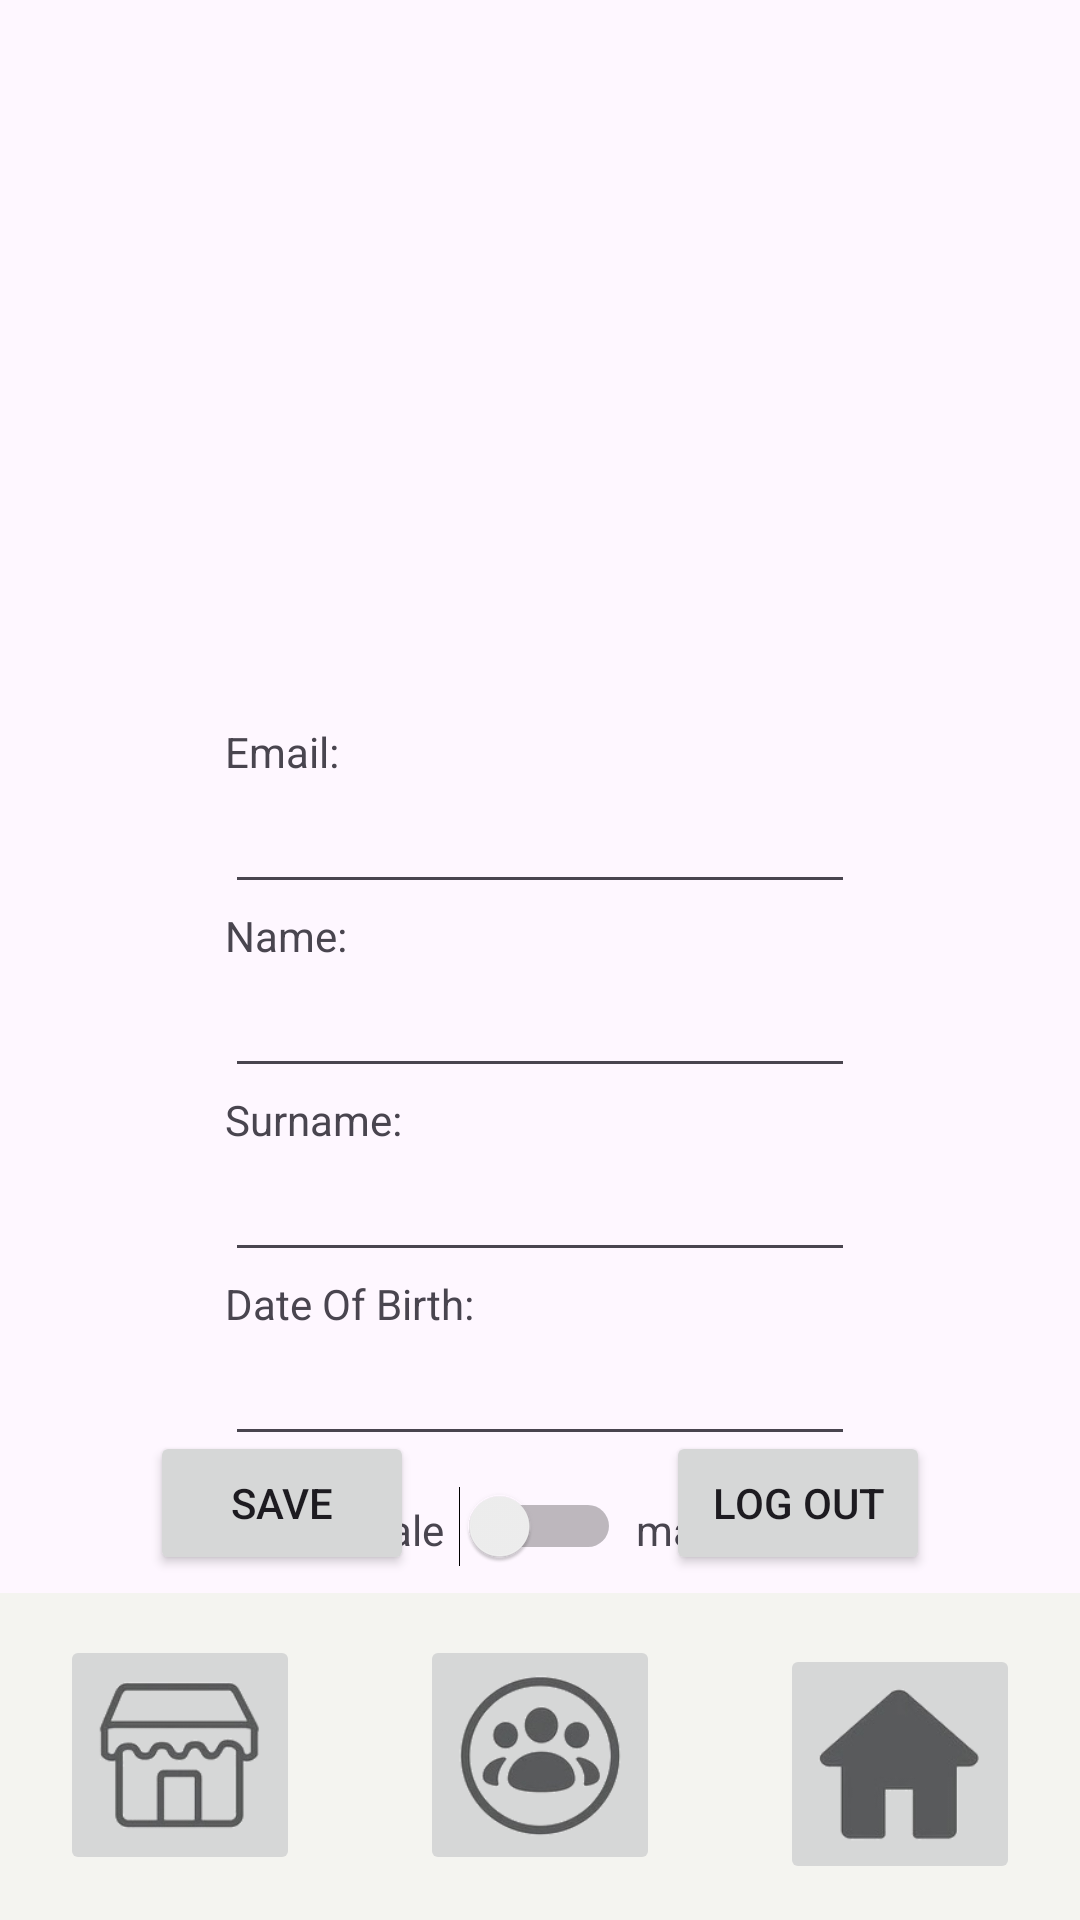

Where icons sit on this 1080px×1920px app screen, as rect(x1, y1, x2, y2):
home: rect(792, 1662, 1008, 1866)
market: rect(72, 1653, 288, 1857)
